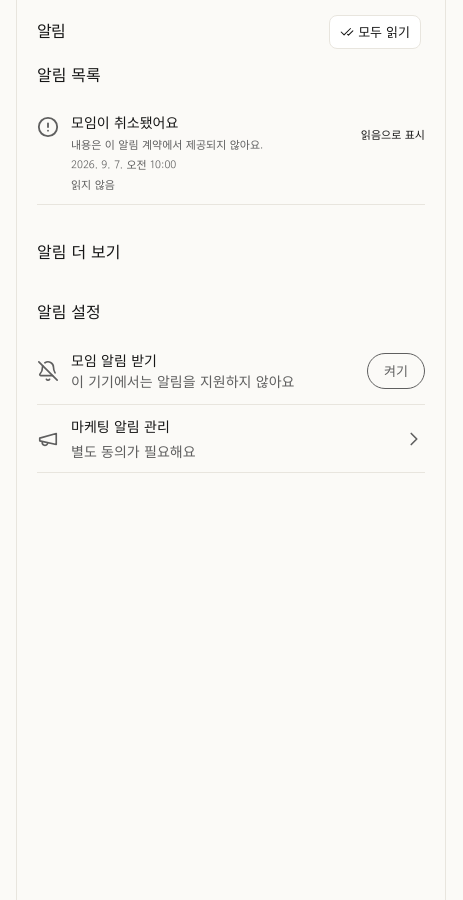
it: NotificationsPage API behavior › surfaces an explicit append error with a retry that keeps the list
The width and height of the screenshot is (463, 900).
Check: the text "모임이 취소됐어요" is shown, box [71,112,178,132]
Step 1. Click the button "알림 더 보기" → [79, 251], box [37,229,120,273]
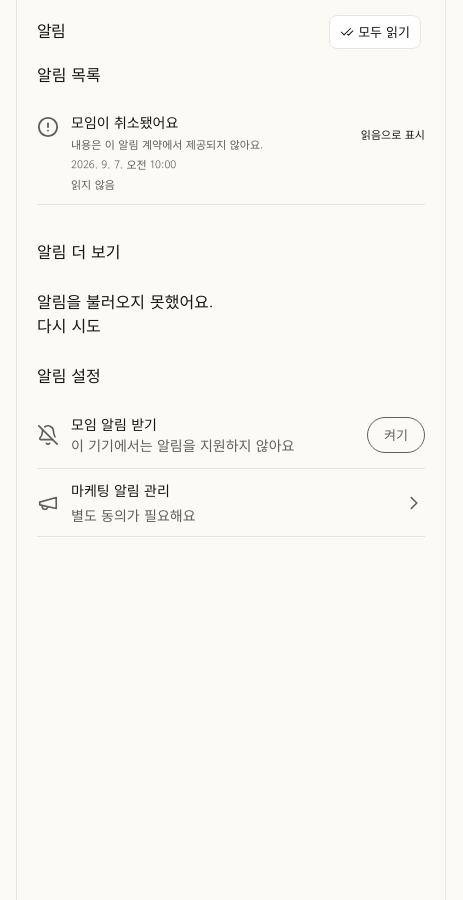
Check: the text "모임이 취소됐어요" is shown, box [71,112,178,132]
Check: the text "알림을 불러오지 못했어요." is shown, box [37,289,214,313]
Step 2. Click the button "다시 시도" → [69, 325], box [37,313,101,337]
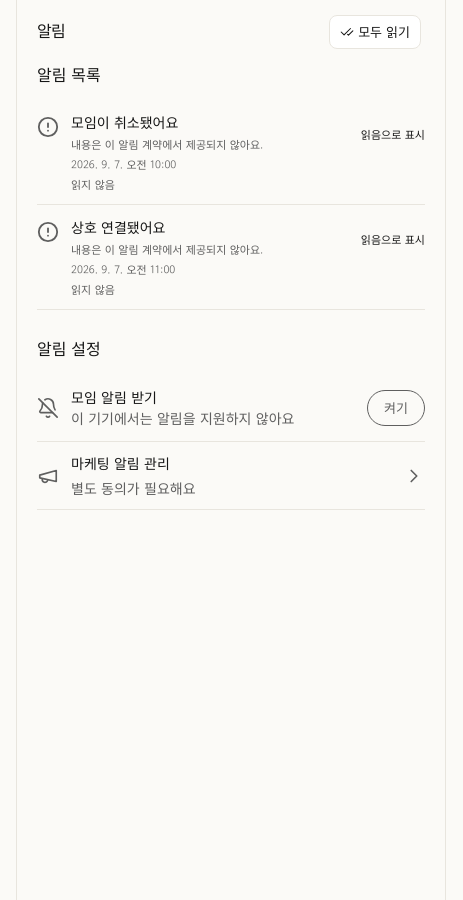
Check: the text "상호 연결됐어요" is shown, box [71,217,166,237]
Check: the text "알림을 불러오지 못했어요." is gone
